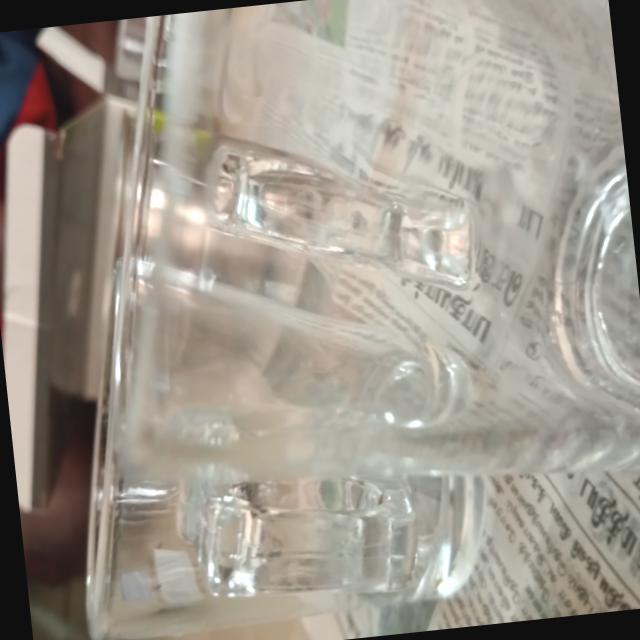glass-VX4N: (69, 0, 640, 529), (45, 246, 506, 640)
